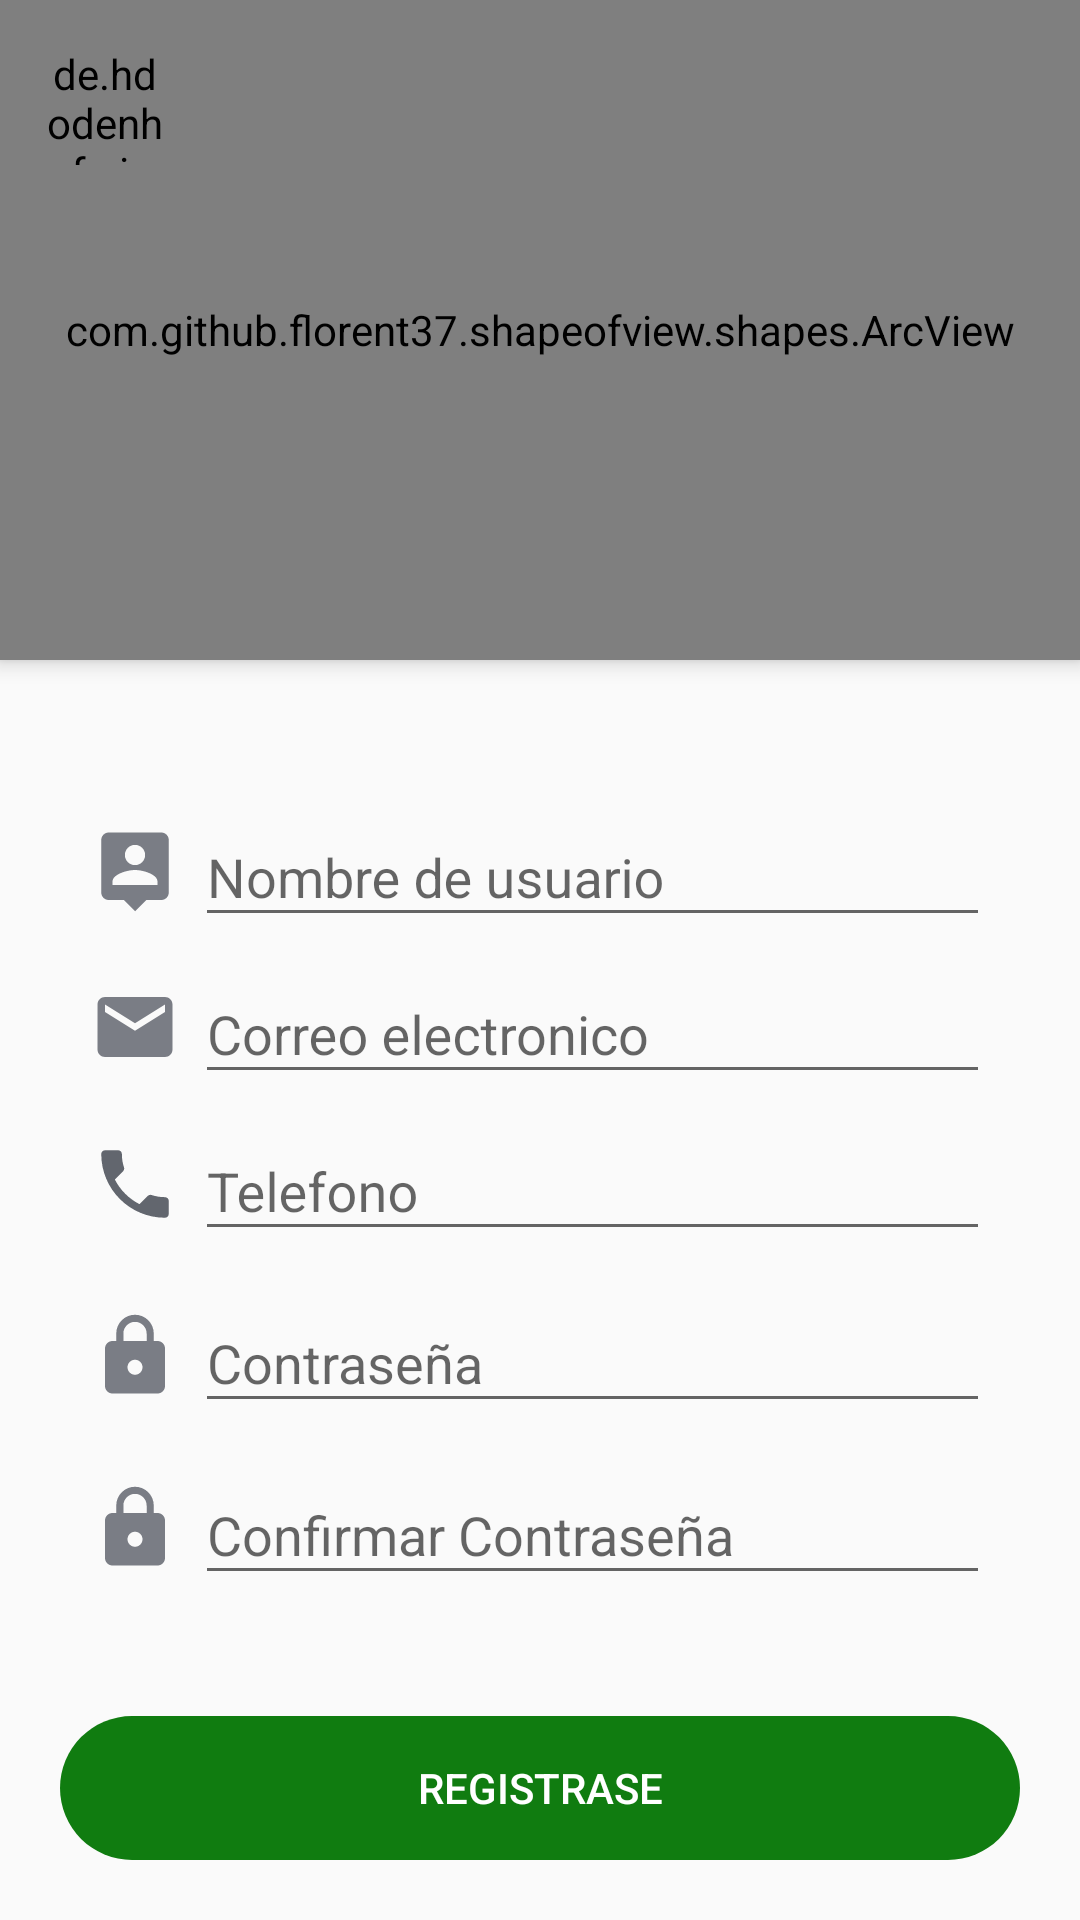

Screen size 1080px×1920px. Icon name, then its center in pixels as [x,y]:
email: [135,1027]
person pin: [135,871]
phone: [135,1184]
